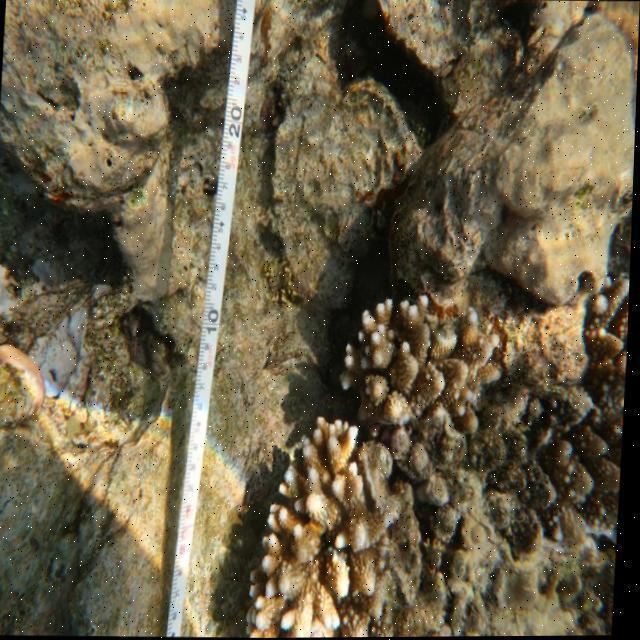Healthy Coral: (256, 425, 391, 638), (350, 300, 515, 434)
